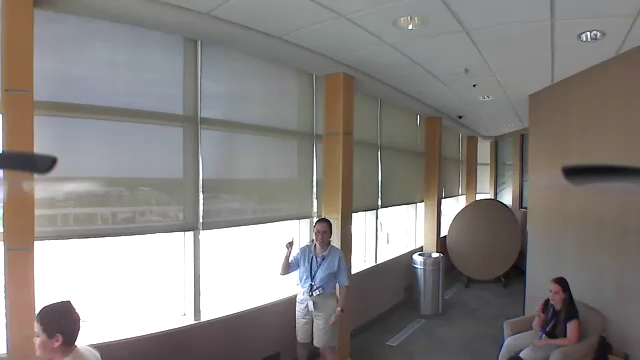up: (281, 232, 299, 254)
